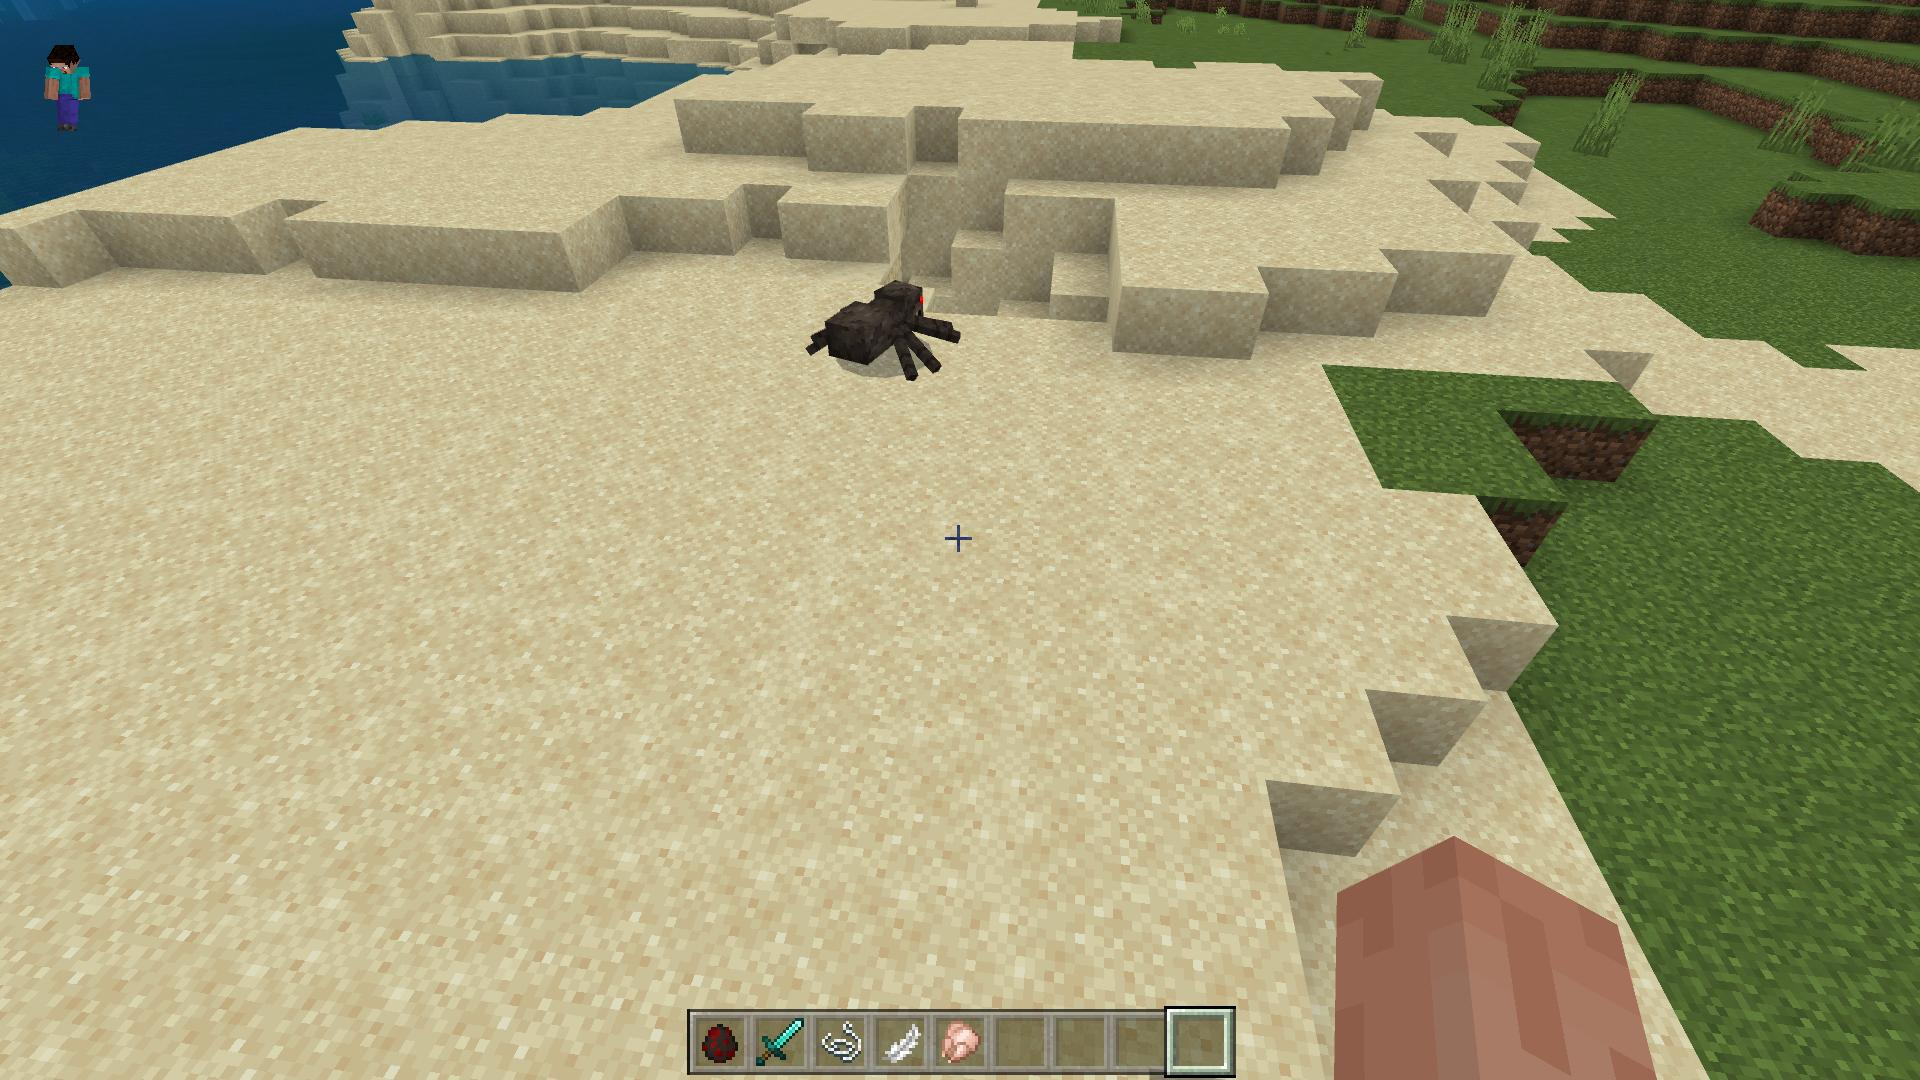spider: (803, 280, 965, 384)
